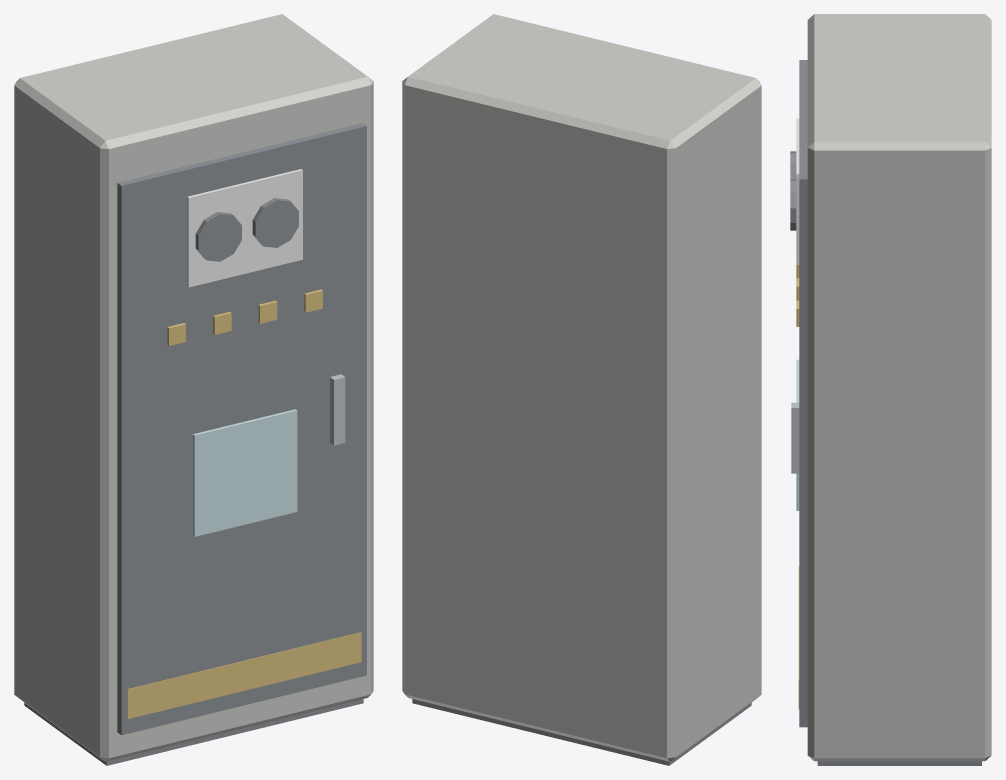
The model's file is P_hv_cabinet.fbx.
The picture shows the model from 3 angles, left to right: view 1: azimuth 30°, elevation 25°; view 2: azimuth 150°, elevation 25°; view 3: azimuth 270°, elevation 25°; orthographic projection.
Parts seen in each view (by area): view 1: P_hv_cabinet; view 2: P_hv_cabinet; view 3: P_hv_cabinet.
Boxes of the visible parts, x1,y1,x2,y2 form: P_hv_cabinet: (14,14,373,765); P_hv_cabinet: (402,14,761,765); P_hv_cabinet: (790,14,991,765).
Size of the model in its own units: 0.96 by 2.1 by 0.613.
